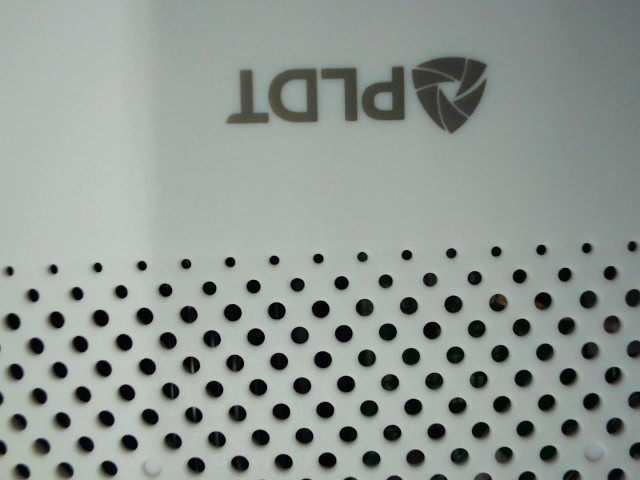BH_PLDT: (215, 38, 504, 143)
